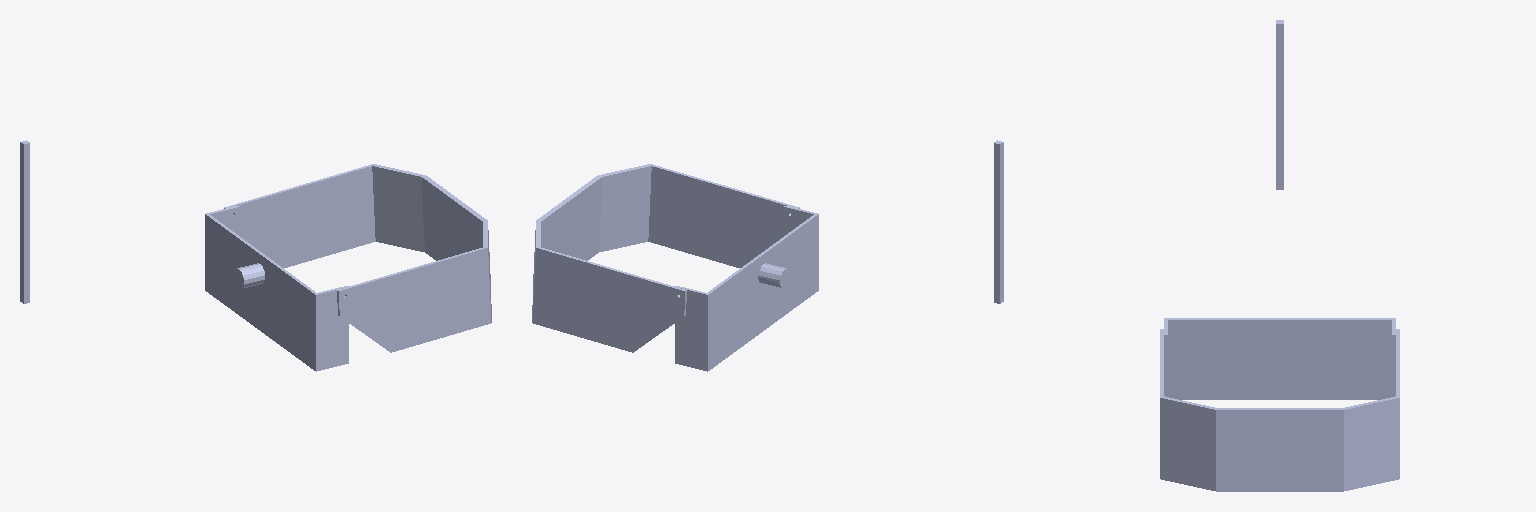
robot.urdf — robot_16:
<?xml version="1.0" encoding="utf-8"?>
<!-- This URDF was automatically created by SolidWorks to URDF Exporter! Originally created by [author] ([email redacted]) 
     Commit Version: 1.6.0-1-g15f4949  Build Version: 1.6.7594.29634
     For more information, please see http://wiki.ros.org/sw_urdf_exporter -->
<robot
  name="robot_16">
  <link
    name="base_link">
    <inertial>
      <origin
        xyz="0.0145441493723993 -1.36020916563464E-17 0.0365817554752582"
        rpy="0 0 0" />
      <mass
        value="10.6285208191334" />
      <inertia
        ixx="0.102028273795723"
        ixy="-1.08532393870512E-17"
        ixz="0.00403401272589497"
        iyy="0.151518571448495"
        iyz="-2.70212659589984E-18"
        izz="0.23911906106474" />
    </inertial>
    <visual>
      <origin
        xyz="0 0 0"
        rpy="0 0 0" />
      <geometry>
        <mesh
          filename="package://robot_16/meshes/base_link.STL" />
      </geometry>
      <material
        name="">
        <color
          rgba="0.792156862745098 0.819607843137255 0.933333333333333 1" />
      </material>
    </visual>
    <collision>
      <origin
        xyz="0 0 0"
        rpy="0 0 0" />
      <geometry>
        <mesh
          filename="package://robot_16/meshes/base_link.STL" />
      </geometry>
    </collision>
  </link>
  <link
    name="L_link">
    <inertial>
      <origin
        xyz="0 0 -0.01125"
        rpy="0 0 0" />
      <mass
        value="0.690954034248905" />
      <inertia
        ixx="0.00179540087336864"
        ixy="1.96300714533835E-35"
        ixz="1.01643953670516E-20"
        iyy="0.00179540087336864"
        iyz="2.20405190779179E-36"
        izz="0.00353250250009753" />
    </inertial>
    <visual>
      <origin
        xyz="0 0 0"
        rpy="0 0 0" />
      <geometry>
        <mesh
          filename="package://robot_16/meshes/L_link.STL" />
      </geometry>
      <material
        name="">
        <color
          rgba="0.792156862745098 0.819607843137255 0.933333333333333 1" />
      </material>
    </visual>
    <collision>
      <origin
        xyz="0 0 0"
        rpy="0 0 0" />
      <geometry>
        <mesh
          filename="package://robot_16/meshes/L_link.STL" />
      </geometry>
    </collision>
  </link>
  <joint
    name="L_joint"
    type="continuous">
    <origin
      xyz="-0.13201 0.1775 0.04"
      rpy="1.5708 0 0" />
    <parent
      link="base_link" />
    <child
      link="L_link" />
    <axis
      xyz="0 0 -1" />
  </joint>
  <link
    name="R_link">
    <inertial>
      <origin
        xyz="2.77555756156289E-17 0 0.01125"
        rpy="0 0 0" />
      <mass
        value="0.690954034248905" />
      <inertia
        ixx="0.00179540087336864"
        ixy="1.96300714533835E-35"
        ixz="1.01643953670516E-20"
        iyy="0.00179540087336864"
        iyz="1.37753244236988E-36"
        izz="0.00353250250009753" />
    </inertial>
    <visual>
      <origin
        xyz="0 0 0"
        rpy="0 0 0" />
      <geometry>
        <mesh
          filename="package://robot_16/meshes/R_link.STL" />
      </geometry>
      <material
        name="">
        <color
          rgba="0.792156862745098 0.819607843137255 0.933333333333333 1" />
      </material>
    </visual>
    <collision>
      <origin
        xyz="0 0 0"
        rpy="0 0 0" />
      <geometry>
        <mesh
          filename="package://robot_16/meshes/R_link.STL" />
      </geometry>
    </collision>
  </link>
  <joint
    name="R_joint"
    type="continuous">
    <origin
      xyz="-0.132007907908432 -0.1775 0.04"
      rpy="1.5707963267949 0 0" />
    <parent
      link="base_link" />
    <child
      link="R_link" />
    <axis
      xyz="0 0 -1" />
  </joint>
  <link
    name="Gripper_link">
    <inertial>
      <origin
        xyz="0.00169258177970372 -0.1525 0.0626773923404718"
        rpy="0 0 0" />
      <mass
        value="0.27354369260617" />
      <inertia
        ixx="0.00332109827650254"
        ixy="6.83188507102723E-19"
        ixz="1.83318469851867E-05"
        iyy="0.000385532675137136"
        iyz="-4.8887290139426E-19"
        izz="0.00306661973981523" />
    </inertial>
    <visual>
      <origin
        xyz="0 0 0"
        rpy="0 0 0" />
      <geometry>
        <mesh
          filename="package://robot_16/meshes/Gripper_link.STL" />
      </geometry>
      <material
        name="">
        <color
          rgba="0.792156862745098 0.819607843137255 0.933333333333333 1" />
      </material>
    </visual>
    <collision>
      <origin
        xyz="0 0 0"
        rpy="0 0 0" />
      <geometry>
        <mesh
          filename="package://robot_16/meshes/Gripper_link.STL" />
      </geometry>
    </collision>
  </link>
  <joint
    name="Gripper_joint"
    type="fixed">
    <origin
      xyz="0.22986 0.1525 -0.05"
      rpy="0 0 0" />
    <parent
      link="base_link" />
    <child
      link="Gripper_link" />
    <axis
      xyz="0 0 0" />
  </joint>
  <link
    name="S_link">
    <inertial>
      <origin
        xyz="0.1525 -0.200722822434886 0.0428489354574837"
        rpy="0 0 0" />
      <mass
        value="0.561654902143577" />
      <inertia
        ixx="0.00461592441893209"
        ixy="-8.73447451863333E-18"
        ixz="1.40439319658268E-18"
        iyy="0.00986729875961306"
        iyz="0.000100571789775732"
        izz="0.0131719741536673" />
    </inertial>
    <visual>
      <origin
        xyz="0 0 0"
        rpy="0 0 0" />
      <geometry>
        <mesh
          filename="package://robot_16/meshes/S_link.STL" />
      </geometry>
      <material
        name="">
        <color
          rgba="0.792156862745098 0.819607843137255 0.933333333333333 1" />
      </material>
    </visual>
    <collision>
      <origin
        xyz="0 0 0"
        rpy="0 0 0" />
      <geometry>
        <mesh
          filename="package://robot_16/meshes/S_link.STL" />
      </geometry>
    </collision>
  </link>
  <joint
    name="Slider_joint"
    type="revolute">
    <origin
      xyz="0.04 0 0.11"
      rpy="-3.1212 0 -1.5708" />
    <parent
      link="Gripper_link" />
    <child
      link="S_link" />
    <axis
      xyz="1 0 0" />
    <limit
      lower="0"
      upper="3"
      effort="1000"
      velocity="0.5" />
  </joint>
  <link
    name="C_Link">
    <inertial>
      <origin
        xyz="0.005 0.0050347 -0.075342"
        rpy="0 0 0" />
      <mass
        value="1" />
      <inertia
        ixx="2.8613E-05"
        ixy="-3.9546E-23"
        ixz="-2.3934E-21"
        iyy="2.8609E-05"
        iyz="3.6416E-08"
        izz="2.5395E-07" />
    </inertial>
    <visual>
      <origin
        xyz="0 0 0"
        rpy="0 0 0" />
      <geometry>
        <box size = "0.01 0.01 0.25" />
      </geometry>
      <material
        name="">
        <color
          rgba="0.79216 0.81961 0.93333 1" />
      </material>
    </visual>
    <collision>
      <origin
        xyz="0 0 0"
        rpy="0 0 0" />
      <geometry>
        <box size = "0.01 0.01 0.25" />
      </geometry>
    </collision>
  </link>
  <joint
    name="C_joint"
    type="fixed">
    <origin
      xyz="-0.16 0 0.21"
      rpy="0 0 0" />
    <parent
      link="base_link" />
    <child
      link="C_Link" />
    <axis
      xyz="0 0 0" />
  </joint>
  <gazebo>
    <plugin filename="libgazebo_ros_diff_drive.so" name="differential_drive_controller">
      <alwaysOn>true</alwaysOn>
      <updateRate>20</updateRate>
      <leftJoint>L_joint</leftJoint>
      <rightJoint>R_joint</rightJoint>
      <wheelSeparation>0.35</wheelSeparation>
      <wheelDiameter>0.2</wheelDiameter>
      <torque>100</torque>
      <commandTopic>cmd_vel</commandTopic>
      <odometryTopic>odom</odometryTopic>
      <odometryFrame>odom</odometryFrame>
      <robotBaseFrame>base_link</robotBaseFrame>
    </plugin>
  </gazebo>
  <gazebo reference="C_Link">
    <sensor type="camera" name="camera1">
      <update_rate>30.0</update_rate>
      <camera name="head">
        <horizontal_fov>1.3962634</horizontal_fov>
        <image>
          <width>800</width>
          <height>800</height>
          <format>R8G8B8</format>
        </image>
        <clip>
          <near>0.02</near>
          <far>300</far>
        </clip>
        <noise>
          <type>gaussian</type>
          <!-- Noise is sampled independently per pixel on each frame.
               That pixel's noise value is added to each of its color
               channels, which at that point lie in the range [0,1]. -->
          <mean>0.0</mean>
          <stddev>0.007</stddev>
        </noise>
      </camera>
      <plugin name="camera_controller" filename="libgazebo_ros_camera.so">
        <alwaysOn>true</alwaysOn>
        <updateRate>0.0</updateRate>
        <cameraName>robot/camera1</cameraName>
        <imageTopicName>image_raw</imageTopicName>
        <cameraInfoTopicName>camera_info</cameraInfoTopicName>
        <frameName>camera_link</frameName>
        <hackBaseline>0.07</hackBaseline>
        <distortionK1>0.0</distortionK1>
        <distortionK2>0.0</distortionK2>
        <distortionK3>0.0</distortionK3>
        <distortionT1>0.0</distortionT1>
        <distortionT2>0.0</distortionT2>
      </plugin>
    </sensor>
  </gazebo>

</robot>

--- Render facts (derived) ---
The picture shows the robot from 3 angles, left to right: view 1: azimuth 30°, elevation 25°; view 2: azimuth 150°, elevation 25°; view 3: azimuth 270°, elevation 25°; orthographic projection.
Model robot_16 with 6 links and 5 joints (1 revolute, 2 continuous, 2 fixed), rooted at base_link, posed all joints at 0.
Visible links, largest first — view 1: S_link, Gripper_link, C_Link; view 2: S_link, Gripper_link, C_Link; view 3: S_link, Gripper_link, C_Link.
Link boxes in pixels (x1,y1,x2,y2): S_link: (224,164,491,352); Gripper_link: (205,206,348,371); C_Link: (20,140,29,303); S_link: (532,164,799,352); Gripper_link: (675,206,818,371); C_Link: (994,140,1003,303); S_link: (1160,329,1399,491); Gripper_link: (1164,318,1395,399); C_Link: (1276,20,1283,189).
Size in the robot's own frame: 0.718 by 0.325 by 0.385 metres.
Meshes: 5 distinct files referenced, 2 mesh visuals loaded (2 binary STL); not drawn: 3 (reference not matched to a file when rendering).
